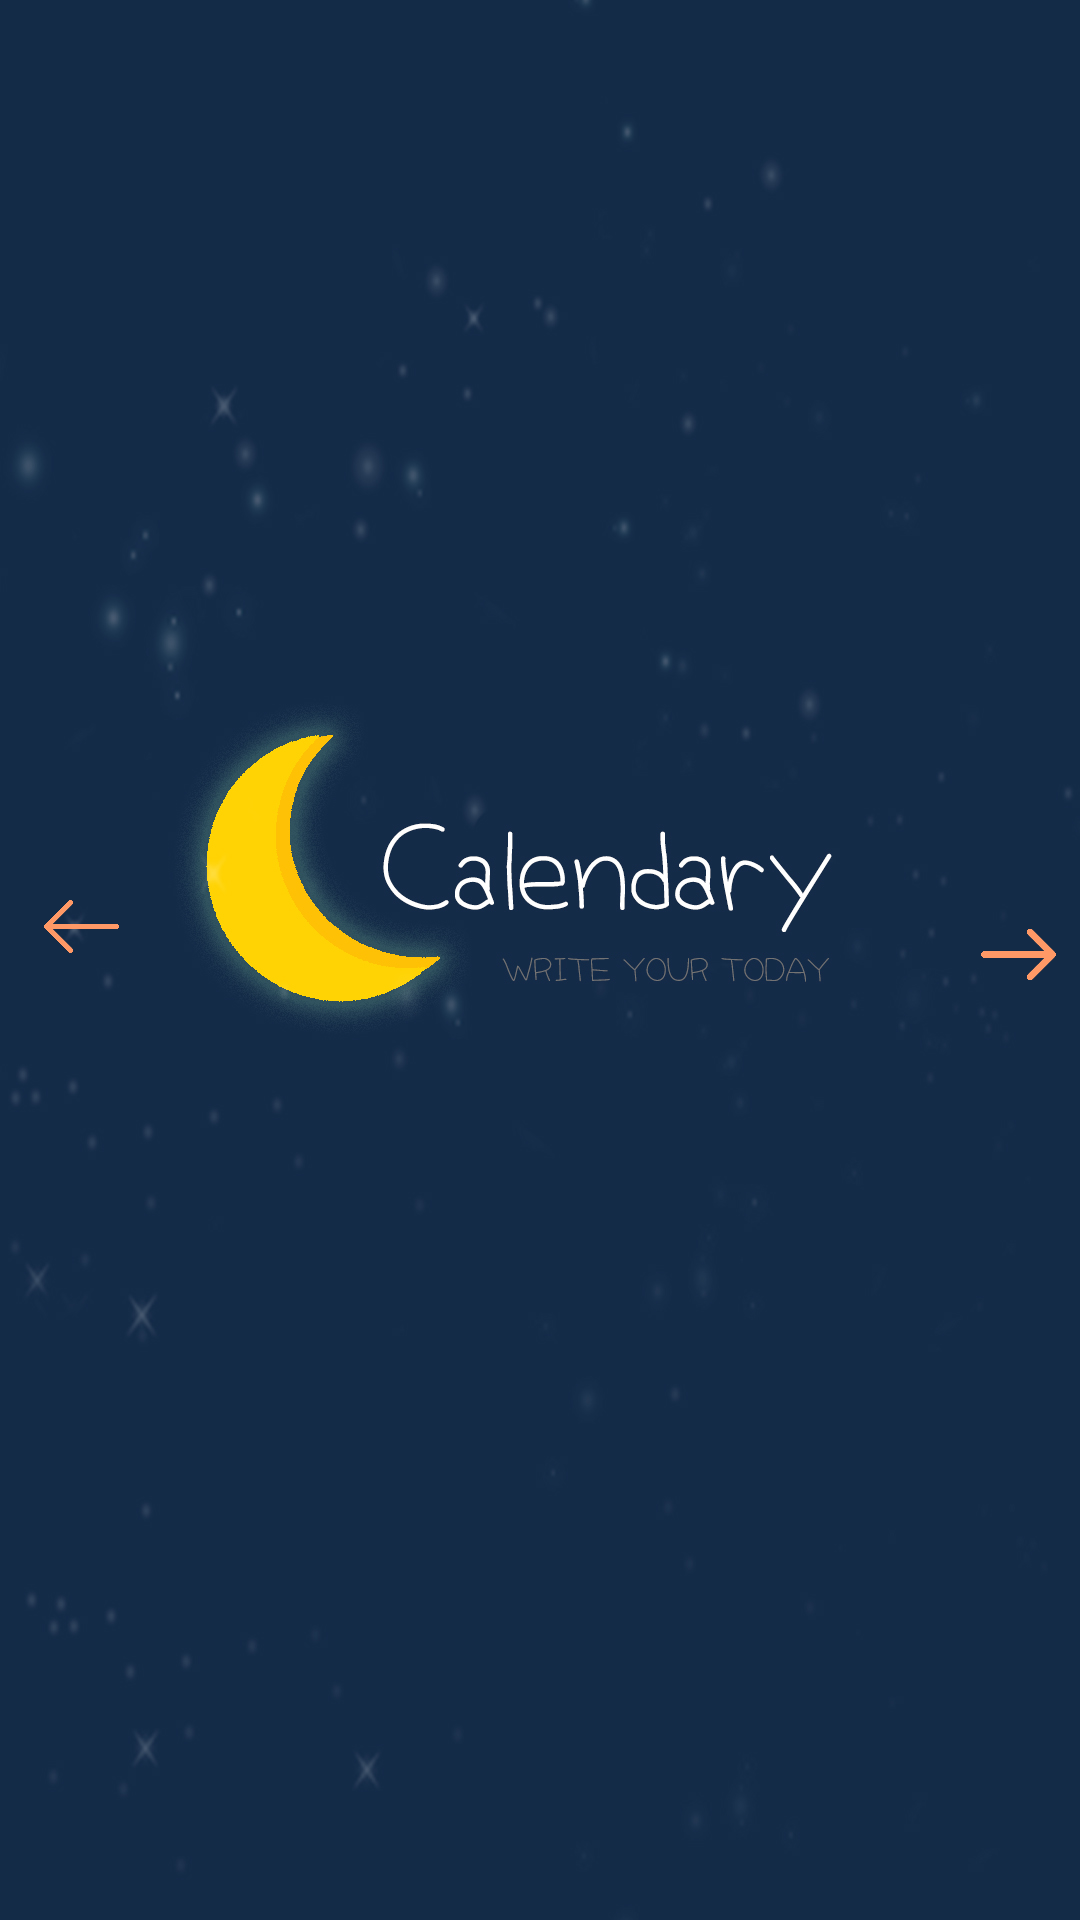

Named icons in this screenshot (1080x1920) and their bounding boxes, (x1, y1, x2, y2):
left arrow: (44, 900, 119, 953)
right arrow: (981, 929, 1056, 980)
